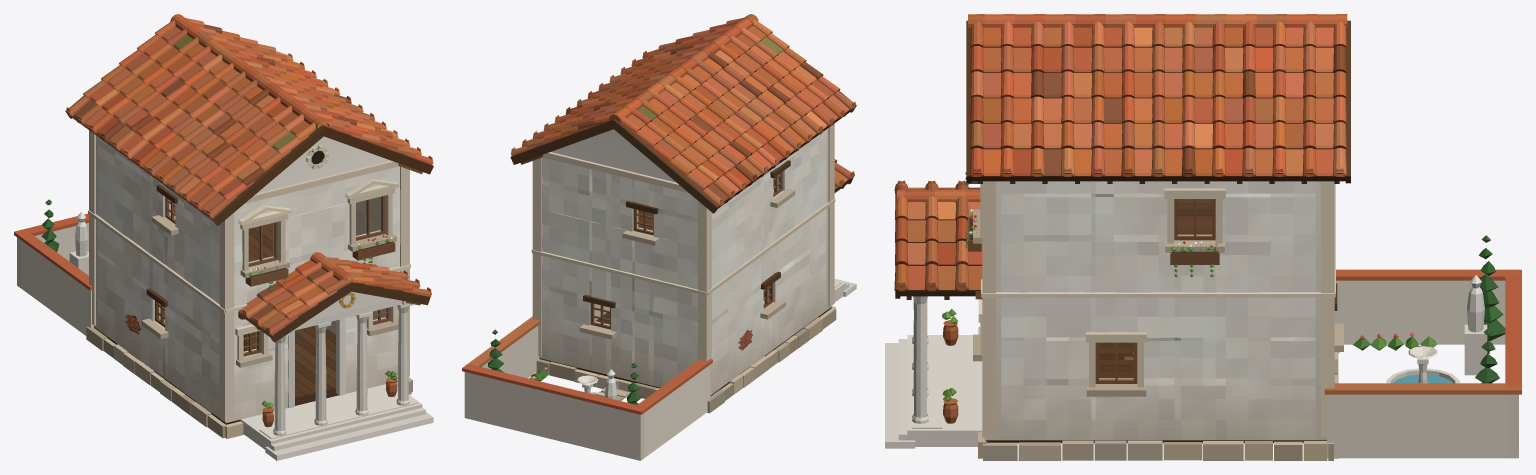
The model's file is patrician_2_2.glb.
3 views of the same model, side by side, from view 1: azimuth 30°, elevation 25°; view 2: azimuth 150°, elevation 25°; view 3: azimuth 270°, elevation 25° (orthographic). The views are drawn at different scales.
Parts seen in each view (by area): view 1: House, Walls, Rooms; view 2: House, Walls; view 3: House, Walls, Rooms.
Boxes of the visible parts, x1,y1,x2,y2 form: House: [14, 14, 433, 460]; Walls: [93, 135, 400, 422]; Rooms: [164, 197, 384, 399]; House: [462, 14, 856, 460]; Walls: [539, 128, 832, 395]; House: [885, 14, 1521, 460]; Walls: [984, 181, 1326, 440]; Rooms: [1099, 199, 1212, 378].
Bounding box in the file's own units: 4.44 × 5.63 × 8.43.
3 materials, 3 textured.
